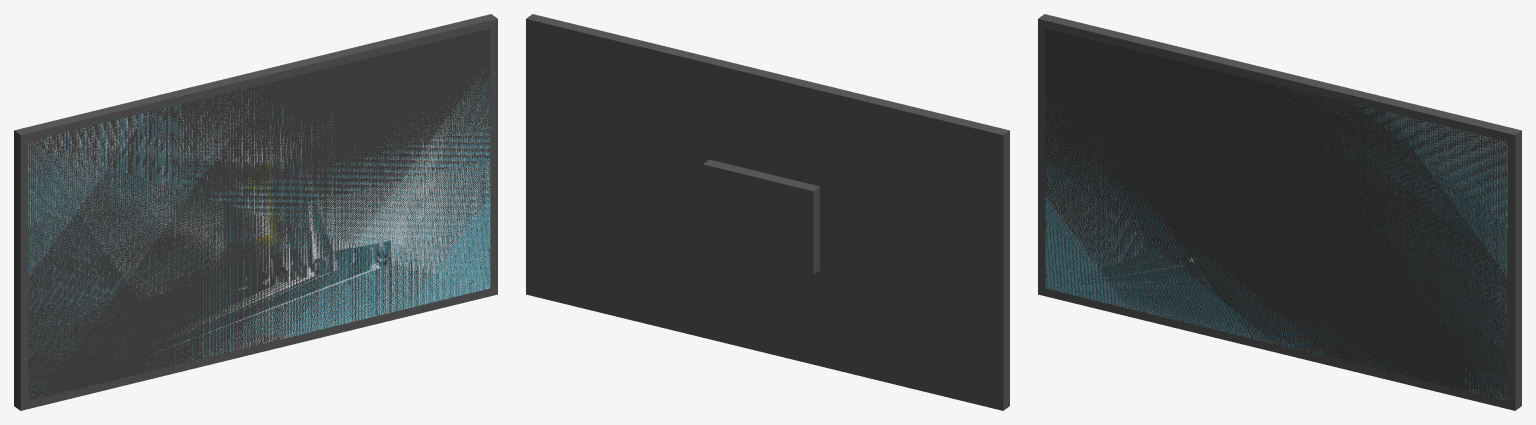
Rendered from Monitor2.fbx.
The picture shows the model from 3 angles, left to right: view 1: azimuth 30°, elevation 25°; view 2: azimuth 150°, elevation 25°; view 3: azimuth 330°, elevation 25°; orthographic projection.
Visible parts, largest first — view 1: Monitor2, Monitor2.003, Monitor2.002, Monitor2.001; view 2: Monitor2.001; view 3: Monitor2, Monitor2.003, Monitor2.001, Monitor2.002.
Boxes of the visible parts, x1,y1,x2,y2 form: Monitor2: (28,29,490,400); Monitor2.003: (28,75,490,390); Monitor2.002: (28,79,490,394); Monitor2.001: (14,14,497,410); Monitor2.001: (526,14,1009,410); Monitor2: (1045,29,1507,400); Monitor2.003: (1045,96,1507,400); Monitor2.001: (1038,14,1521,410); Monitor2.002: (1045,90,1507,399).
Bounding box in the file's own units: 12.5 × 6.9 × 0.6.
